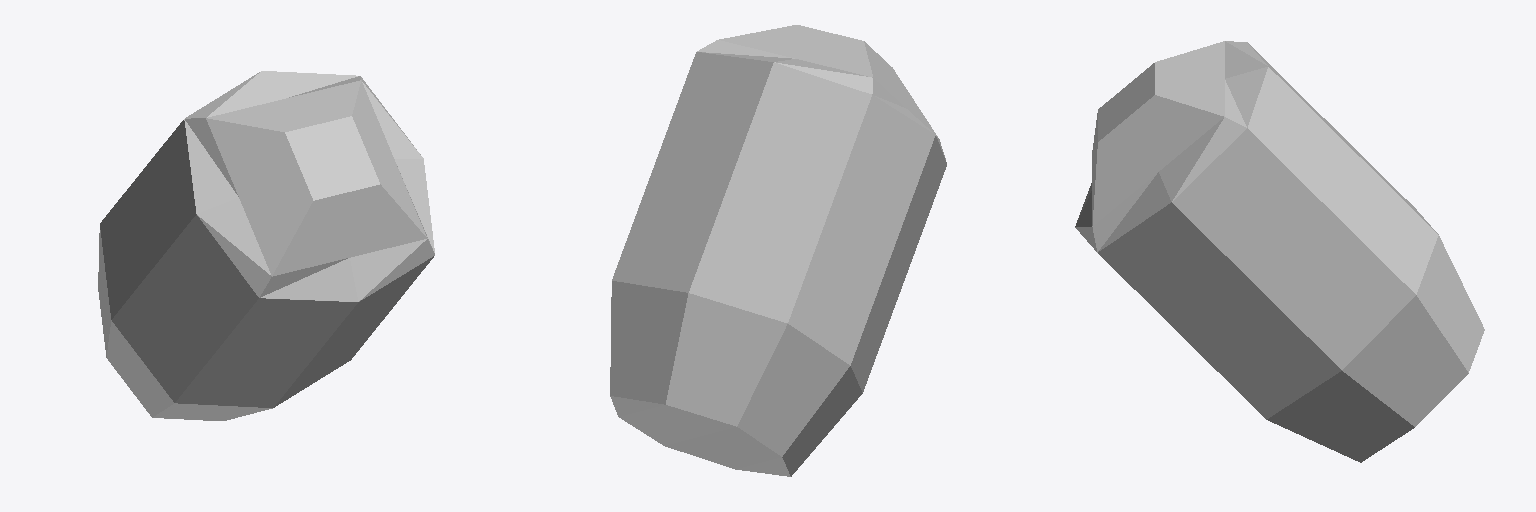
File: LowerLeg.obj
The picture shows the model from 3 angles: view 1: azimuth 30°, elevation 25°; view 2: azimuth 150°, elevation 25°; view 3: azimuth 270°, elevation 25°; orthographic projection.
Parts seen in each view (by area): view 1: Cube.002_Cube.003; view 2: Cube.002_Cube.003; view 3: Cube.002_Cube.003.
Boxes of the visible parts, x1,y1,x2,y2 form: Cube.002_Cube.003: [98, 71, 434, 420]; Cube.002_Cube.003: [610, 25, 946, 476]; Cube.002_Cube.003: [1075, 41, 1484, 462].
Bounding box in the file's own units: 0.959 × 1.53 × 1.5.